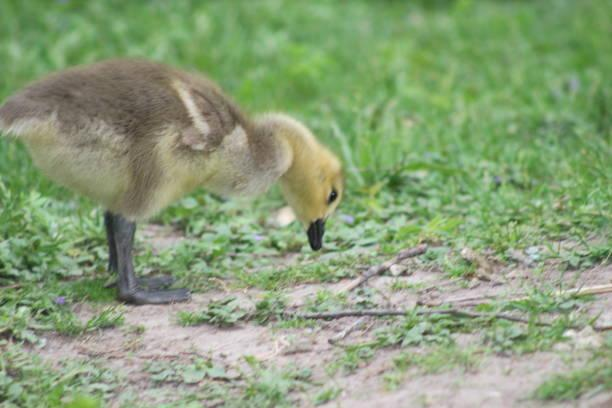Canadian-Goose: (0, 51, 347, 308)
